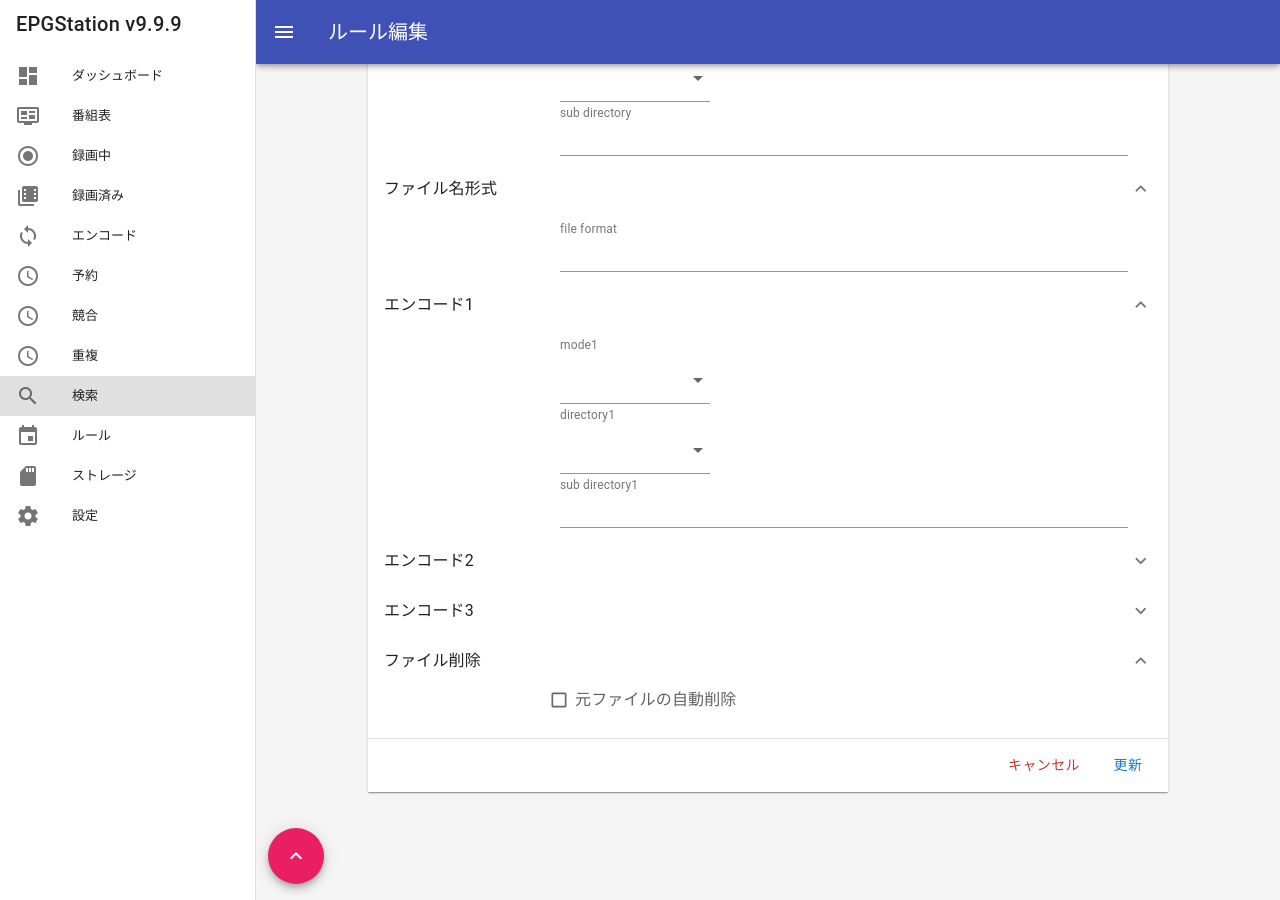
Scenario: Search route lifecycle › [AC 2.13] reports rule update failure when updateRule rejects during rule edit
(page scrolled)
Click the button "更新": click(1128, 766) x1=1096 y1=747 x2=1160 y2=784
(page scrolled)
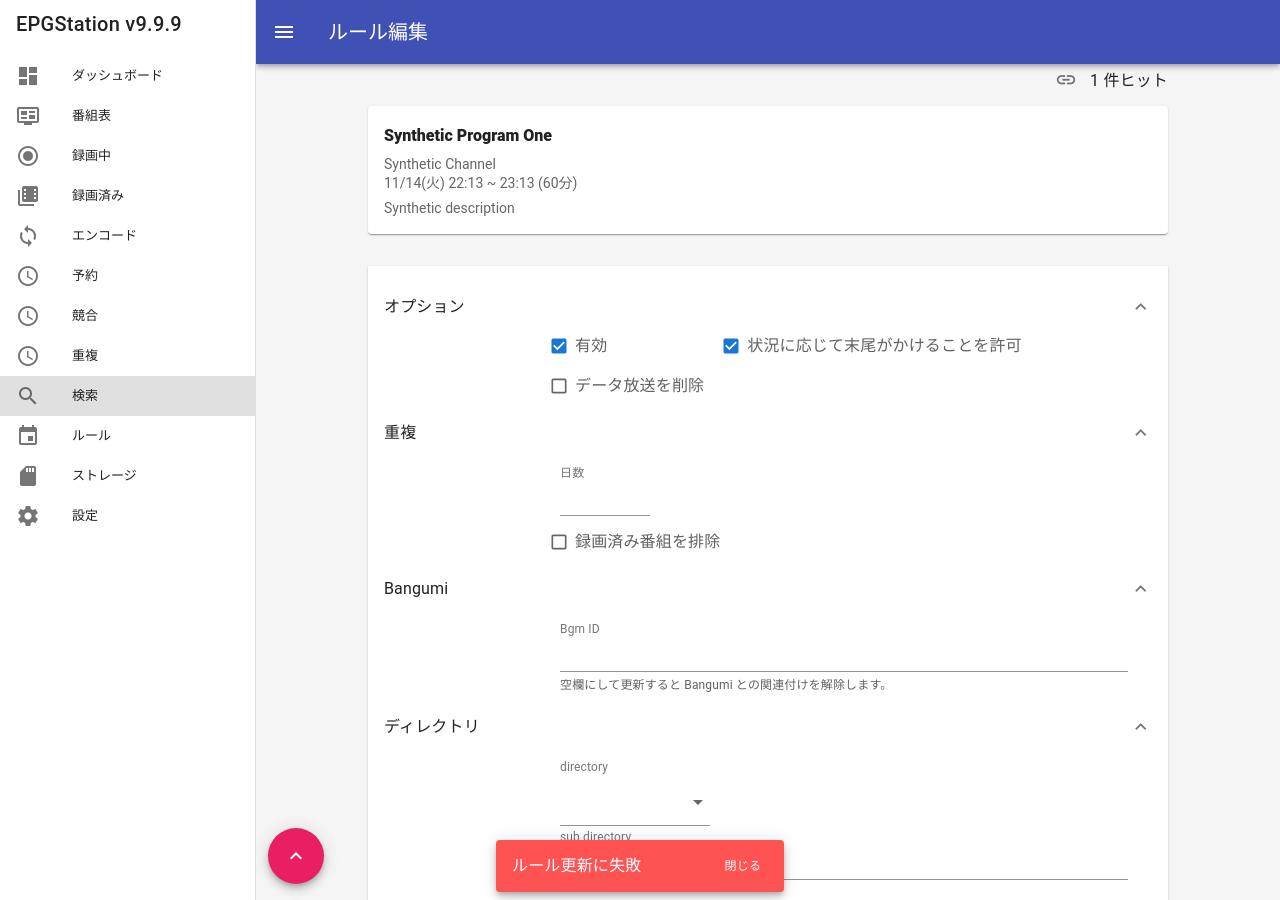
Expected: the text "ルール更新に失敗" is shown, x1=512 y1=856 x2=641 y2=875
